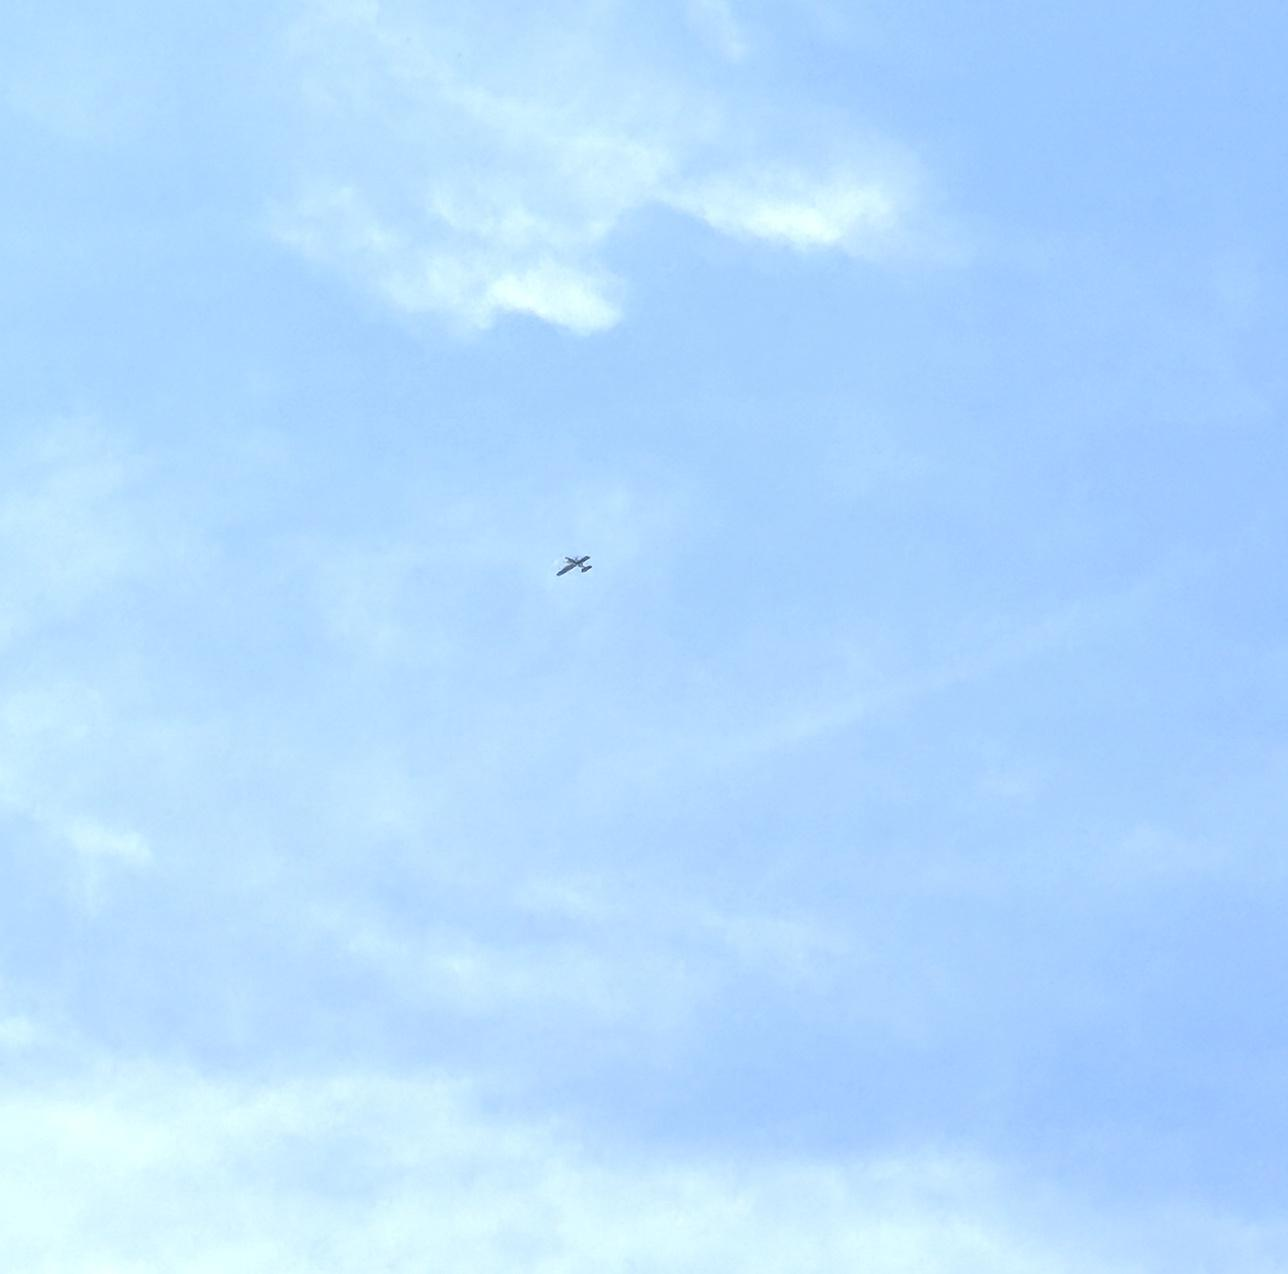Plane: (534, 535, 611, 596)
